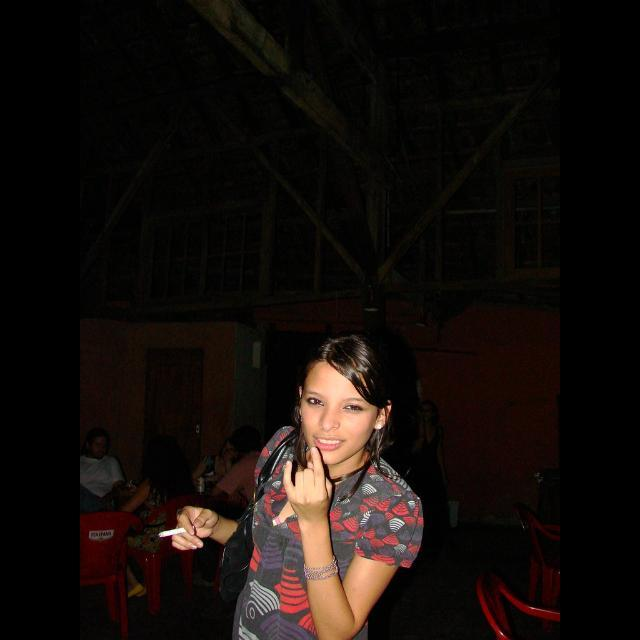rokok: (156, 522, 194, 540)
